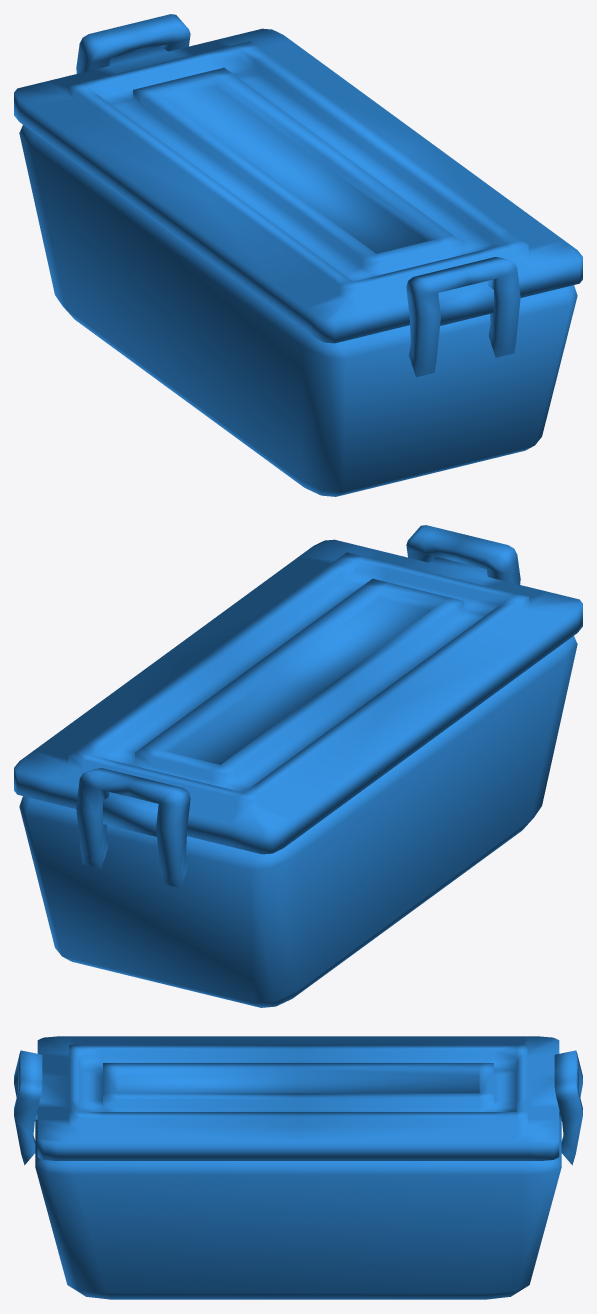
Rendered from Plastic_Container.fbx.
The picture shows the model from 3 angles, top to bottom: view 1: azimuth 30°, elevation 25°; view 2: azimuth 150°, elevation 25°; view 3: azimuth 270°, elevation 25°; orthographic projection. The views are drawn at different scales.
Visible parts, largest first — view 1: Plastic_Container; view 2: Plastic_Container; view 3: Plastic_Container.
Part boxes in pixels (bbox=[...]): Plastic_Container: bbox=[14, 14, 582, 496]; Plastic_Container: bbox=[14, 525, 582, 1007]; Plastic_Container: bbox=[14, 1036, 582, 1299].
Size of the model in its own units: 58.82 by 49.85 by 134.
